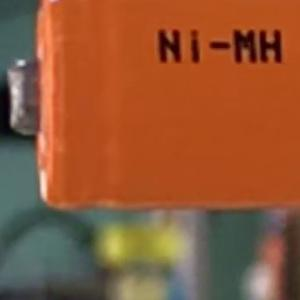NI-MH: (148, 21, 292, 72)
